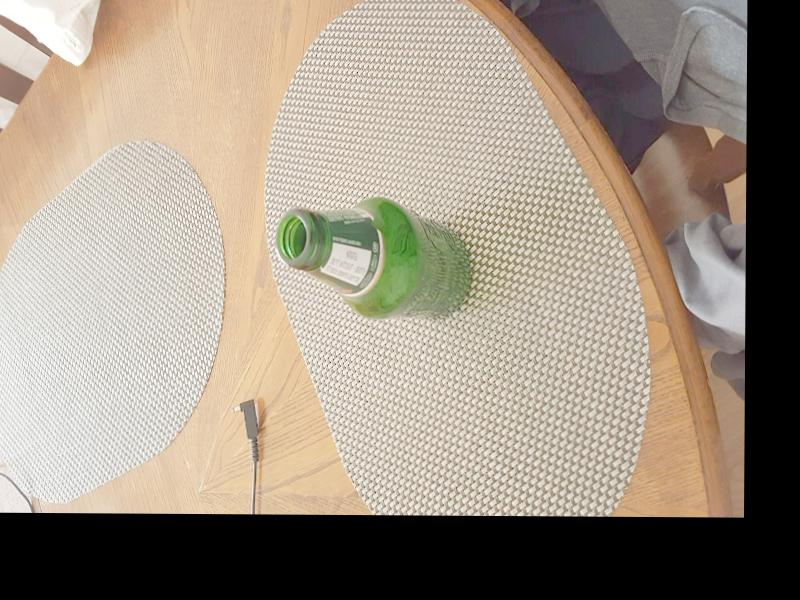Beer: (277, 195, 473, 318)
